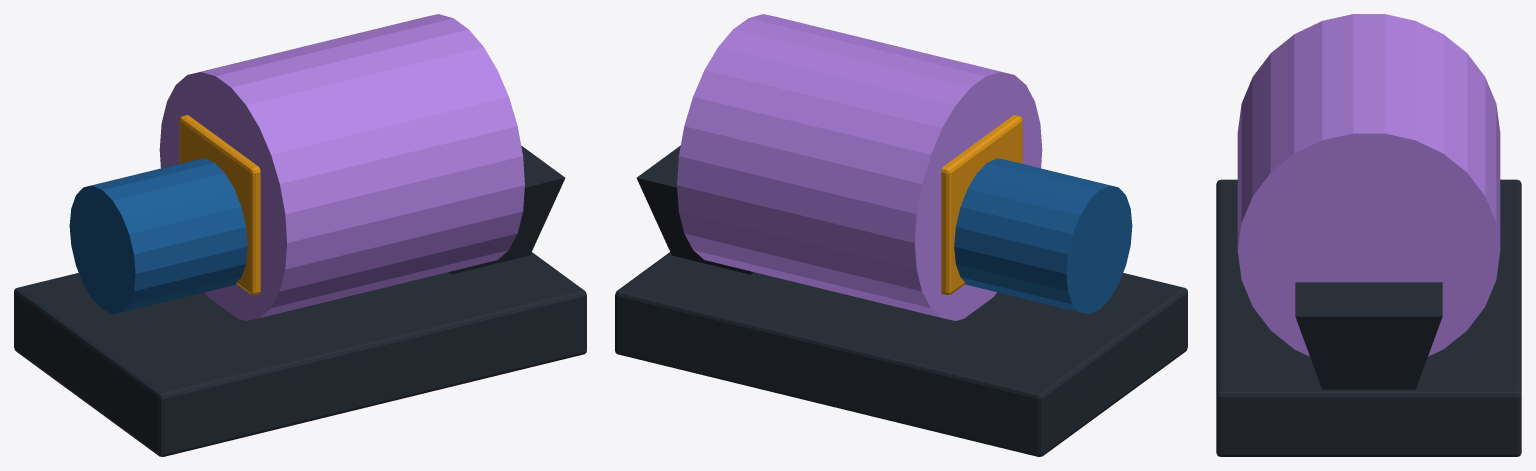
The model's file is centrifuge_cf501.glb.
The picture shows the model from 3 angles, left to right: view 1: azimuth 30°, elevation 25°; view 2: azimuth 150°, elevation 25°; view 3: azimuth 270°, elevation 25°; orthographic projection. The views are drawn at different scales.
Visible parts, largest first — view 1: CF501_DrumHousing, CF501_BaseSkid, CF501_DriveMotor, CF501_BeltGuard, CF501_DischargeChute; view 2: CF501_DrumHousing, CF501_BaseSkid, CF501_DriveMotor, CF501_BeltGuard, CF501_DischargeChute; view 3: CF501_DrumHousing, CF501_BaseSkid, CF501_DischargeChute.
Boxes of the visible parts, box(x1,y1,x2,y2) form: CF501_DrumHousing: box(159, 14, 524, 320); CF501_BaseSkid: box(14, 252, 586, 456); CF501_DriveMotor: box(69, 158, 247, 313); CF501_BeltGuard: box(179, 115, 260, 294); CF501_DischargeChute: box(448, 145, 565, 274); CF501_DrumHousing: box(677, 14, 1042, 320); CF501_BaseSkid: box(615, 252, 1187, 456); CF501_DriveMotor: box(954, 158, 1132, 313); CF501_BeltGuard: box(941, 115, 1022, 294); CF501_DischargeChute: box(636, 145, 753, 274); CF501_DrumHousing: box(1237, 14, 1500, 356); CF501_BaseSkid: box(1216, 179, 1521, 456); CF501_DischargeChute: box(1295, 282, 1442, 389).
Bounding box in the file's own units: 2.33 × 1.46 × 1.35.
